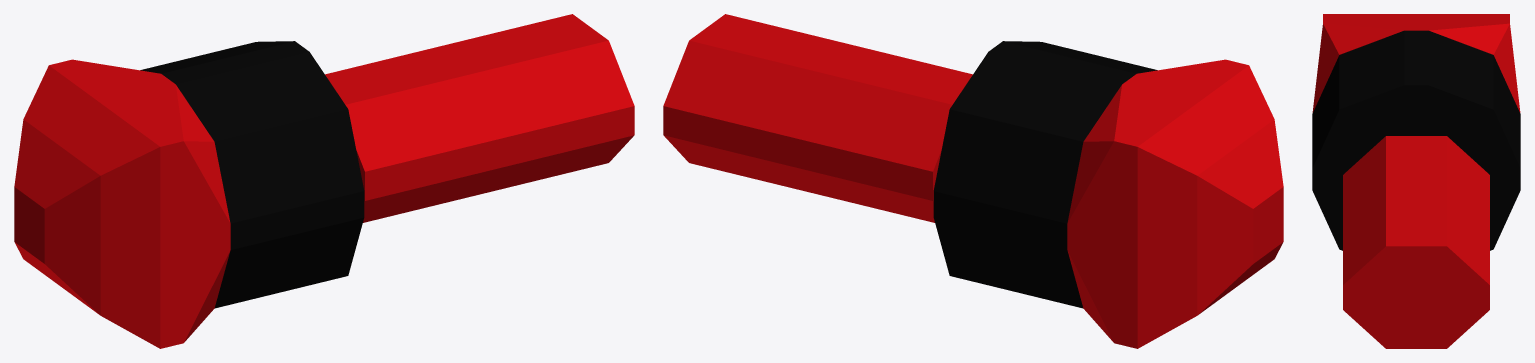
File: Hookshot.fbx
3 renders of one model, left to right at view 1: azimuth 30°, elevation 25°; view 2: azimuth 150°, elevation 25°; view 3: azimuth 270°, elevation 25°, orthographic. The views are drawn at different scales.
Parts seen in each view (by area): view 1: Hook, Gun; view 2: Hook, Gun; view 3: Hook, Gun.
Part boxes in pixels (x1,y1,x2,y2): Hook: [14, 41, 364, 348]; Gun: [325, 14, 634, 222]; Hook: [933, 41, 1283, 348]; Gun: [663, 14, 972, 222]; Hook: [1312, 14, 1520, 250]; Gun: [1343, 136, 1489, 348].
Size of the model in its own units: 143 by 54.69 by 54.69.
